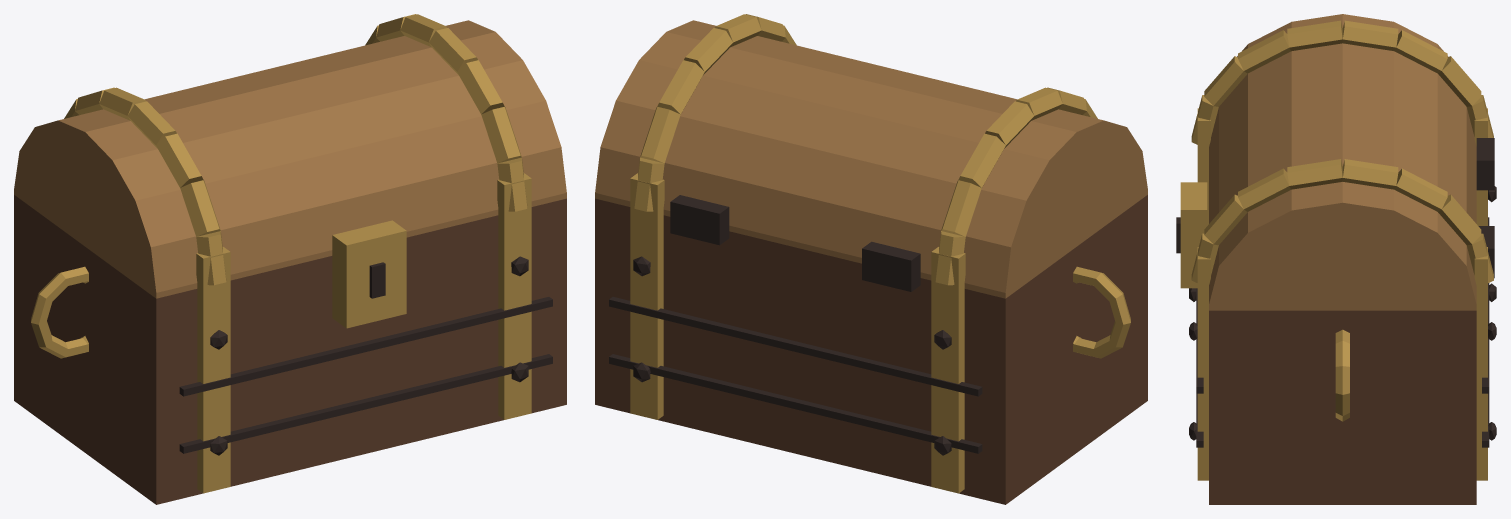
File: PirateCove_TreasureChest_Showcase.glb
The picture shows the model from 3 angles, left to right: view 1: azimuth 30°, elevation 25°; view 2: azimuth 150°, elevation 25°; view 3: azimuth 270°, elevation 25°; orthographic projection. The views are drawn at different scales.
Parts seen in each view (by area): view 1: PirateCove_TreasureChest_Showcase; view 2: PirateCove_TreasureChest_Showcase; view 3: PirateCove_TreasureChest_Showcase.
Boxes of the visible parts, bbox=[...] form: PirateCove_TreasureChest_Showcase: bbox=[14, 14, 566, 504]; PirateCove_TreasureChest_Showcase: bbox=[595, 14, 1147, 504]; PirateCove_TreasureChest_Showcase: bbox=[1176, 14, 1496, 504].
Size of the model in its own units: 1.9 by 1.18 by 1.08.
